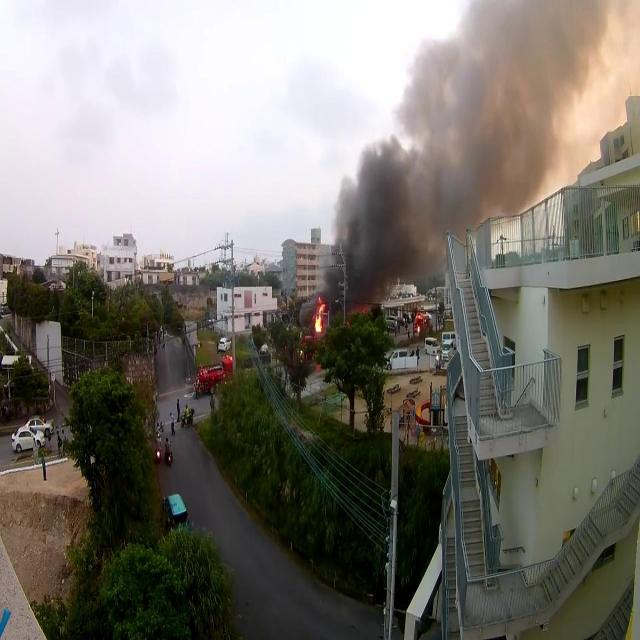Fire: (314, 302, 326, 332)
